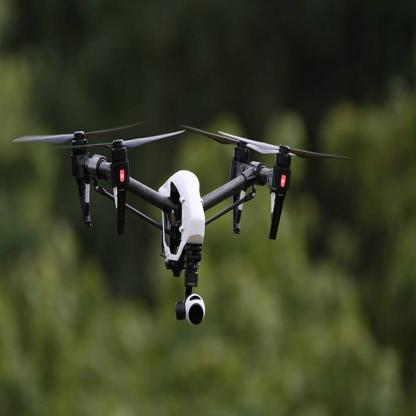drone: (31, 96, 327, 266)
